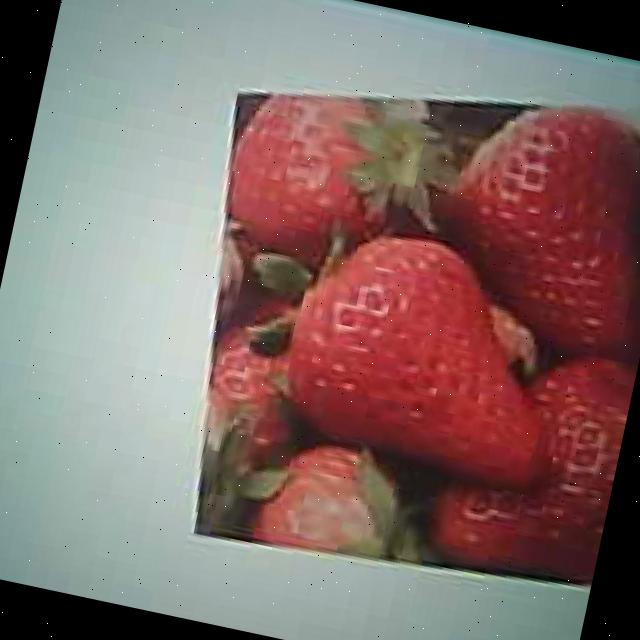strawberry: (271, 218, 578, 490), (421, 83, 640, 361)
